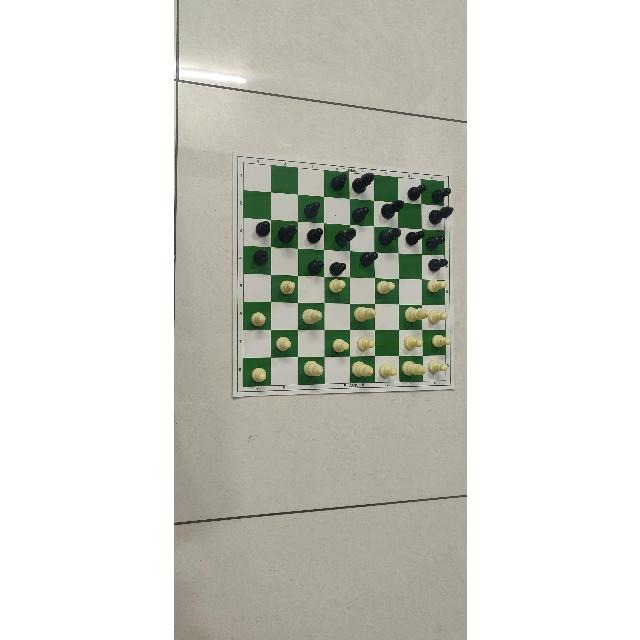black-bishop: (274, 217, 299, 250), (328, 225, 356, 249), (424, 206, 455, 227), (372, 226, 400, 249), (379, 198, 405, 222), (350, 171, 375, 194)
black-pawn: (426, 179, 456, 204), (296, 197, 326, 221), (346, 201, 371, 225), (324, 170, 348, 193), (326, 253, 350, 276), (405, 180, 427, 203), (402, 227, 424, 249), (358, 250, 380, 271), (301, 258, 324, 278), (249, 217, 271, 237), (249, 246, 271, 265), (425, 231, 447, 250), (426, 256, 449, 274), (303, 225, 322, 246)
white-bishop: (296, 304, 327, 327), (397, 302, 428, 325), (345, 358, 374, 382), (344, 302, 377, 323), (298, 358, 326, 381), (399, 357, 426, 380)
white-pawn: (354, 332, 378, 355), (248, 363, 271, 386), (427, 354, 449, 378), (428, 330, 453, 350), (377, 357, 396, 383), (400, 333, 424, 353), (322, 277, 348, 295), (328, 337, 348, 359), (270, 335, 293, 354), (371, 279, 395, 296), (277, 278, 297, 298), (429, 304, 447, 325), (424, 278, 447, 294), (248, 309, 266, 329)
